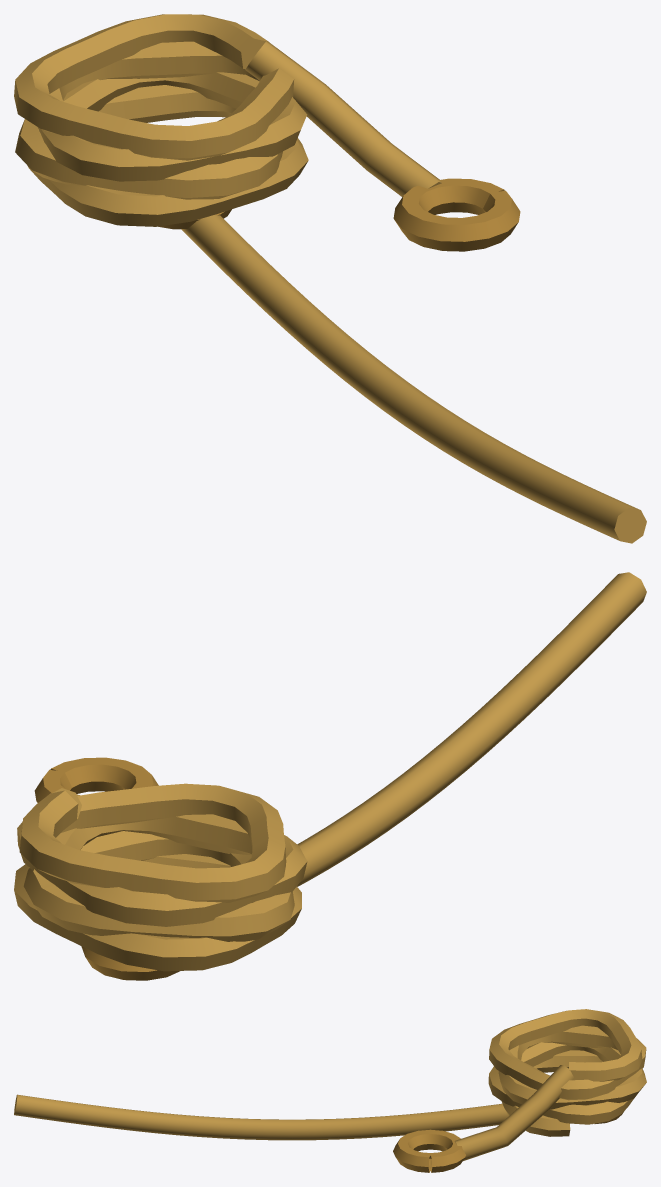
Rendered from tow_rope.glb.
3 views of the same model, one above another, from view 1: azimuth 30°, elevation 25°; view 2: azimuth 150°, elevation 25°; view 3: azimuth 270°, elevation 25° (orthographic). The views are drawn at different scales.
Visible parts, largest first — view 1: pv3_rope_coil, pv3_rope_span; view 2: pv3_rope_coil, pv3_rope_span, pv3_rope_eye_start; view 3: pv3_rope_coil, pv3_rope_span.
Part boxes in pixels (x1,y1,x2,y2): pv3_rope_coil: (14,14,520,251); pv3_rope_span: (181,214,646,543); pv3_rope_coil: (14,757,307,971); pv3_rope_span: (297,572,646,886); pv3_rope_eye_start: (81,946,179,980); pv3_rope_coil: (393,1009,646,1172); pv3_rope_span: (14,1094,508,1140).
Size of the model in its own units: 0.4463 by 0.2099 by 1.14.
